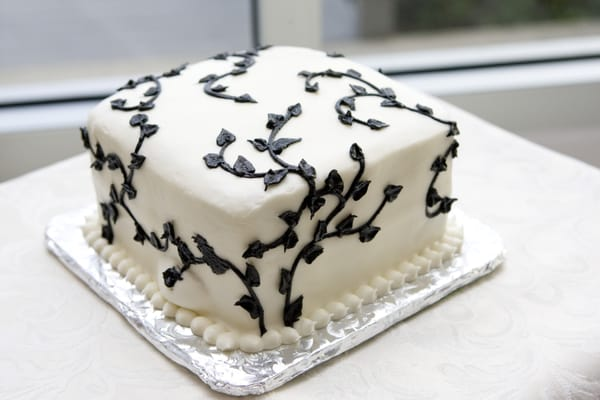sushi: (76, 43, 466, 367)
